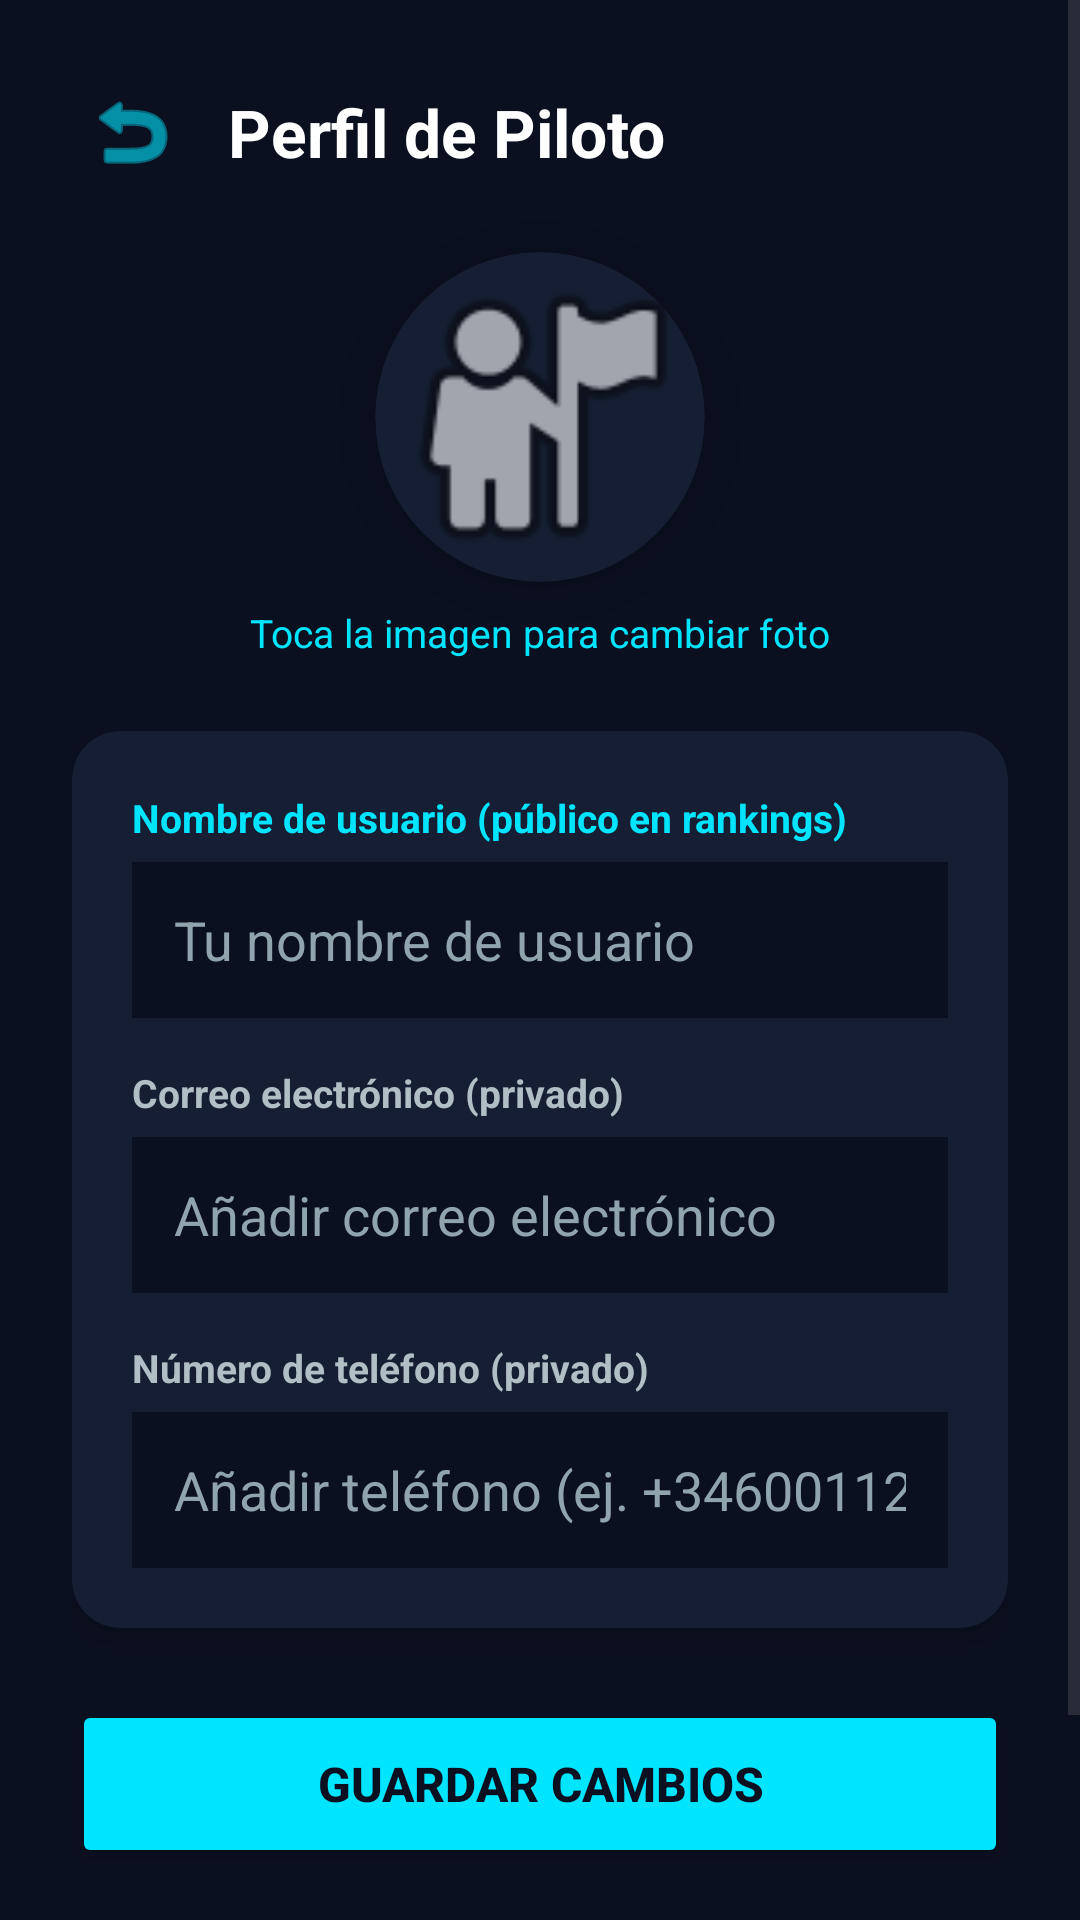

Where icons sit on this 1080 x 1920 app screen, as (left=x1, top=y1, right=x2, bottom=y2):
Foto de perfil: (left=429, top=303, right=658, bottom=531)
Volver: (left=99, top=101, right=168, bottom=164)
